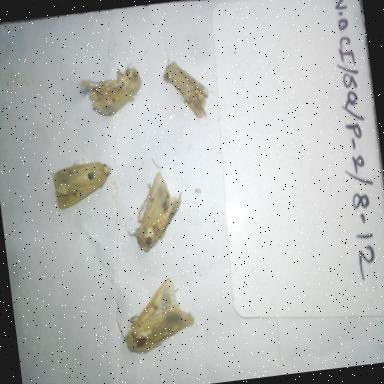abw: (109, 271, 200, 358), (118, 165, 191, 257), (38, 154, 120, 216), (77, 61, 154, 123), (158, 52, 216, 126)
